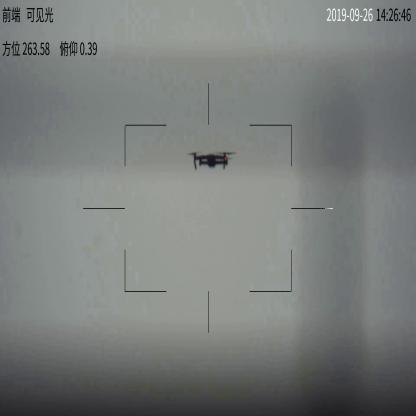uav: (183, 149, 239, 170)
